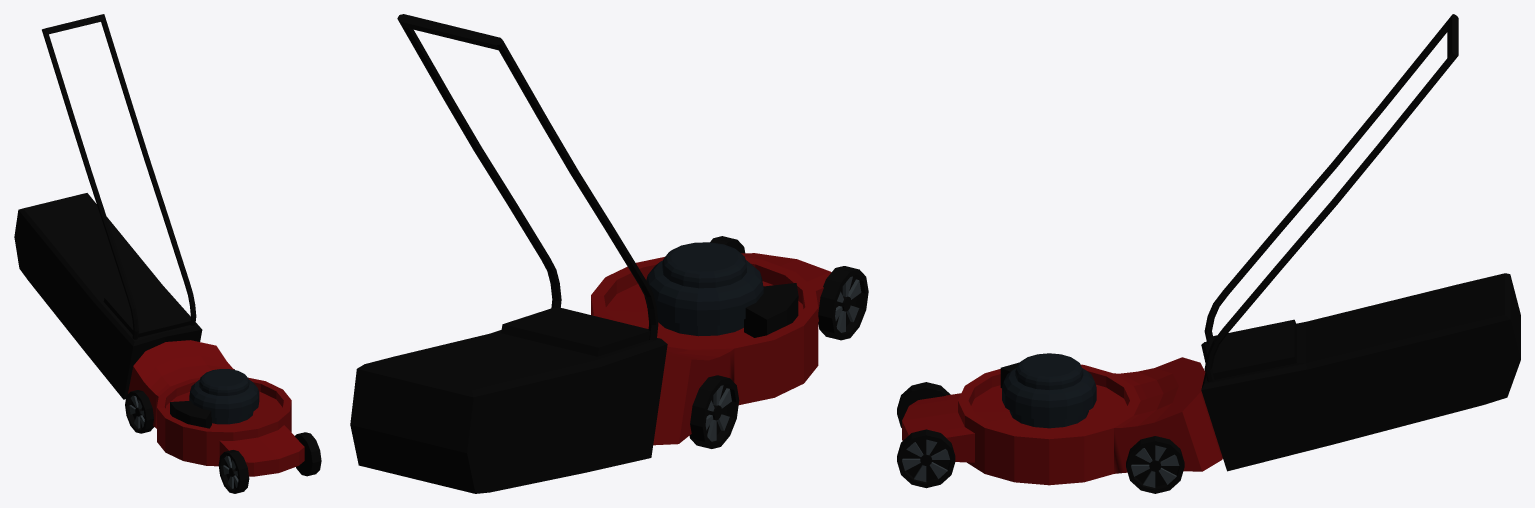
The model's file is Lawn Mower.fbx.
3 views of the same model, side by side, from view 1: azimuth 30°, elevation 25°; view 2: azimuth 150°, elevation 25°; view 3: azimuth 270°, elevation 25° (orthographic). The views are drawn at different scales.
Visible parts, largest first — view 1: Cube; view 2: Cube; view 3: Cube.
Part boxes in pixels (<box>): Cube: <box>14,14,321,493</box>; Cube: <box>350,14,868,493</box>; Cube: <box>897,14,1520,493</box>.
Bounding box in the file's own units: 25.75 × 66.56 × 87.89.
